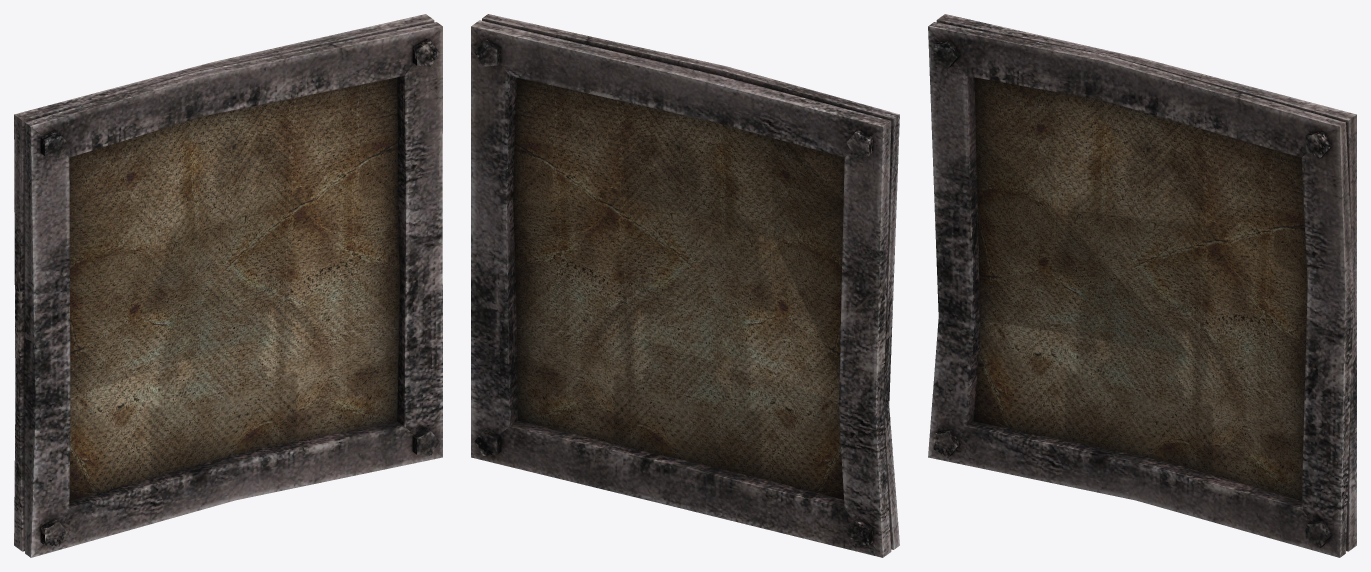
The model's file is stencil02.dae.
The picture shows the model from 3 angles, left to right: view 1: azimuth 30°, elevation 25°; view 2: azimuth 150°, elevation 25°; view 3: azimuth 330°, elevation 25°; orthographic projection.
Visible parts, largest first — view 1: stencil_paper02, stencil_frame02; view 2: stencil_paper02, stencil_frame02; view 3: stencil_paper02, stencil_frame02.
Boxes of the visible parts, x1,y1,x2,y2 form: stencil_paper02: (69, 77, 399, 500); stencil_frame02: (14, 14, 442, 557); stencil_paper02: (513, 77, 844, 499); stencil_frame02: (471, 14, 899, 557); stencil_paper02: (973, 77, 1307, 500); stencil_frame02: (928, 14, 1356, 557).
Size of the model in its own units: 0.2191 by 0.221 by 0.023.
